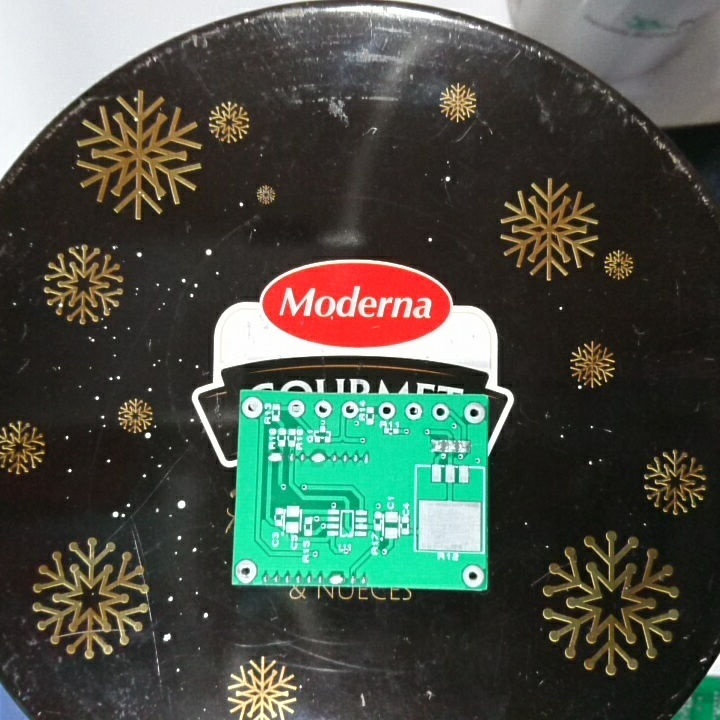F: (231, 556, 260, 584), (459, 562, 486, 588), (241, 394, 265, 423), (461, 400, 487, 426), (312, 397, 335, 420), (429, 400, 453, 422), (403, 400, 425, 423), (284, 398, 308, 419), (376, 399, 398, 421), (339, 398, 360, 420)
P: (264, 449, 286, 466), (308, 449, 327, 466), (326, 572, 346, 587)
